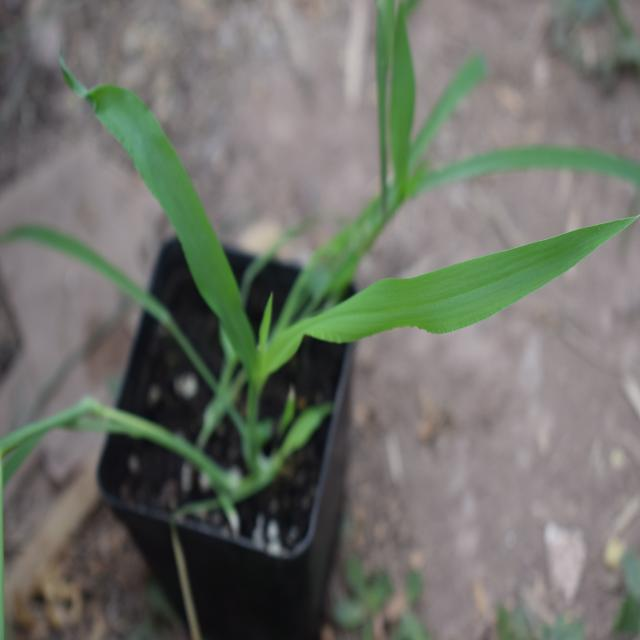crabgrass: (46, 64, 558, 474)
